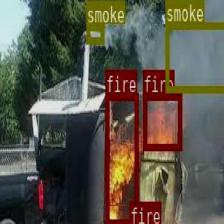fire: (106, 92, 138, 224), (142, 92, 181, 149)
smoke: (164, 21, 224, 91), (86, 23, 104, 42)
